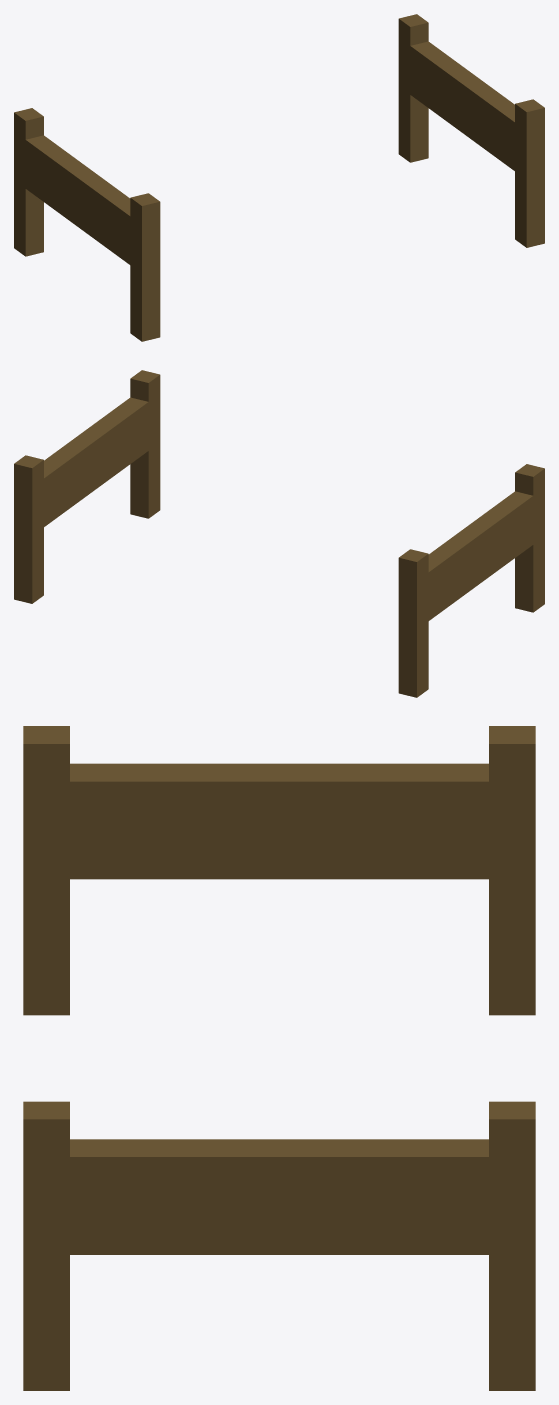
Rendered from BedFrame.glb.
3 views of the same model, one above another, from view 1: azimuth 30°, elevation 25°; view 2: azimuth 150°, elevation 25°; view 3: azimuth 270°, elevation 25° (orthographic). The views are drawn at different scales.
Visible parts, largest first — view 1: Bed Frame.001, Bed Frame.003; view 2: Bed Frame.001, Bed Frame.003; view 3: Bed Frame.001, Bed Frame.003.
Boxes of the visible parts, bbox=[...] form: Bed Frame.001: bbox=[14, 108, 160, 341]; Bed Frame.003: bbox=[398, 14, 544, 247]; Bed Frame.001: bbox=[398, 464, 544, 697]; Bed Frame.003: bbox=[14, 370, 160, 603]; Bed Frame.001: bbox=[23, 726, 535, 1015]; Bed Frame.003: bbox=[23, 1101, 535, 1390].
Bounding box in the file's own units: 3.63 × 1.17 × 2.
